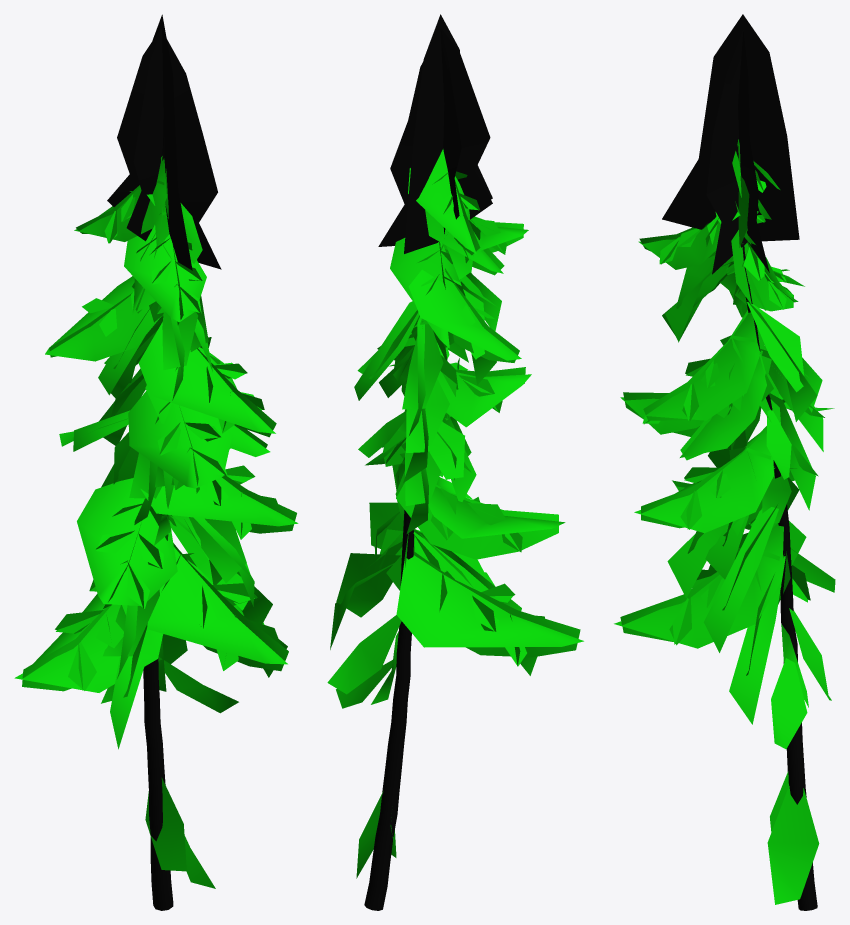
The model's file is pine_004_clump02_B.FBX.
3 renders of one model, left to right at view 1: azimuth 30°, elevation 25°; view 2: azimuth 150°, elevation 25°; view 3: azimuth 270°, elevation 25°, orthographic. The views are drawn at different scales.
Parts seen in each view (by area): view 1: pine_004_clump02_B_LOD0; view 2: pine_004_clump02_B_LOD0; view 3: pine_004_clump02_B_LOD0.
Part boxes in pixels (x1=…): pine_004_clump02_B_LOD0: x1=14, y1=14, x2=298, y2=910; pine_004_clump02_B_LOD0: x1=327, y1=14, x2=583, y2=910; pine_004_clump02_B_LOD0: x1=614, y1=14, x2=835, y2=910.
Size of what is drawn, in the model's own units: 471 by 1554 by 356.
